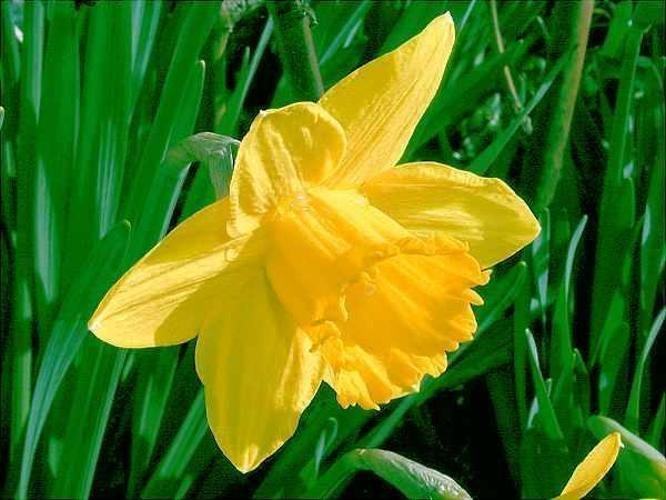flower1: (87, 10, 542, 474)
